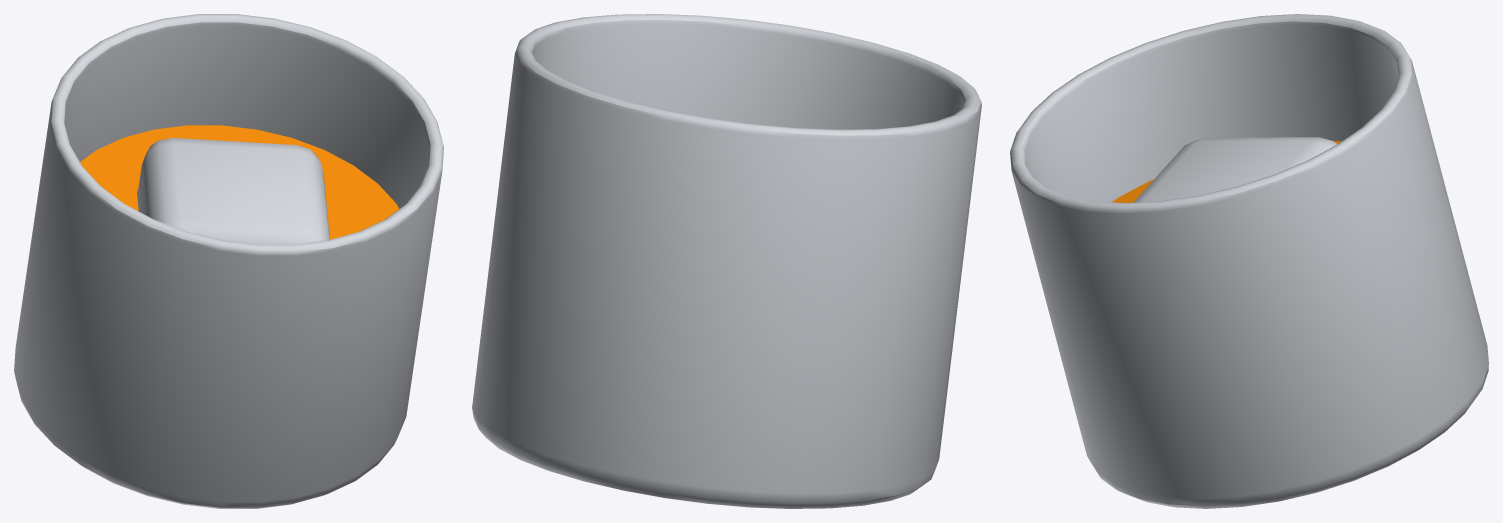
The model's file is tumbler_glass.fbx.
3 renders of one model, left to right at view 1: azimuth 30°, elevation 25°; view 2: azimuth 150°, elevation 25°; view 3: azimuth 270°, elevation 25°, orthographic. The views are drawn at different scales.
Parts seen in each view (by area): view 1: Circle.2287; view 2: Circle.2287; view 3: Circle.2287.
Boxes of the visible parts, x1,y1,x2,y2 form: Circle.2287: (14, 14, 443, 508); Circle.2287: (472, 14, 981, 508); Circle.2287: (1010, 14, 1488, 508).
Bounding box in the file's own units: 180 × 186 × 207.
2 materials, 1 textured.
